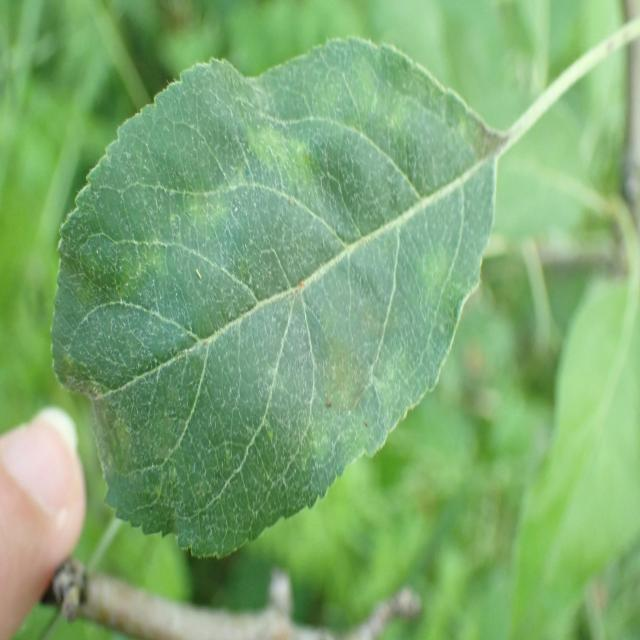scab: (57, 102, 541, 482)
